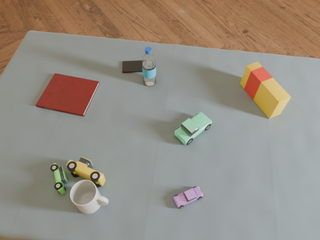book: (36, 73, 99, 116)
bottle: (142, 47, 156, 86)
box: (240, 62, 291, 119)
cup: (70, 180, 108, 214)
phone: (122, 61, 142, 72)
toy_car: (175, 112, 212, 145), (67, 157, 106, 187), (173, 186, 203, 208), (51, 163, 68, 194)
